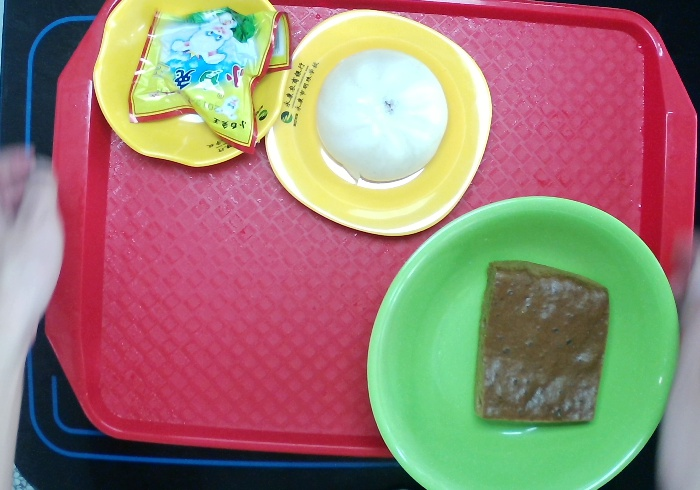YKMZ-Huang_Se_Ao_Bian_Wan: (85, 1, 294, 175)
YKMZ-Huang_Se_Fang_Die: (262, 5, 499, 244)
YKMZ-Lv_Se_Tang_Wan: (358, 193, 684, 490)
